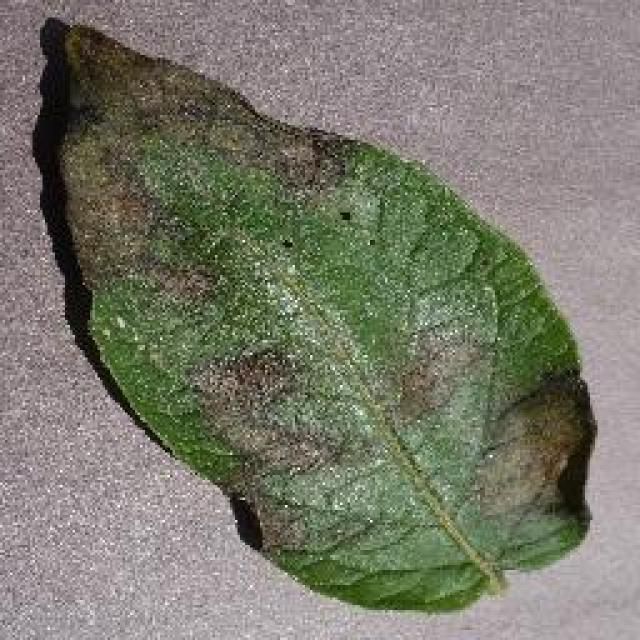late_blight: (30, 12, 600, 618)
